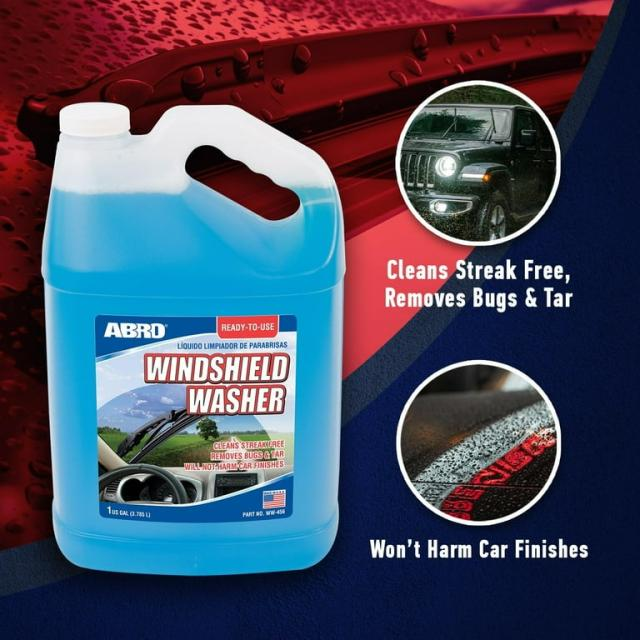winwinshield_washer: (39, 97, 357, 579)
